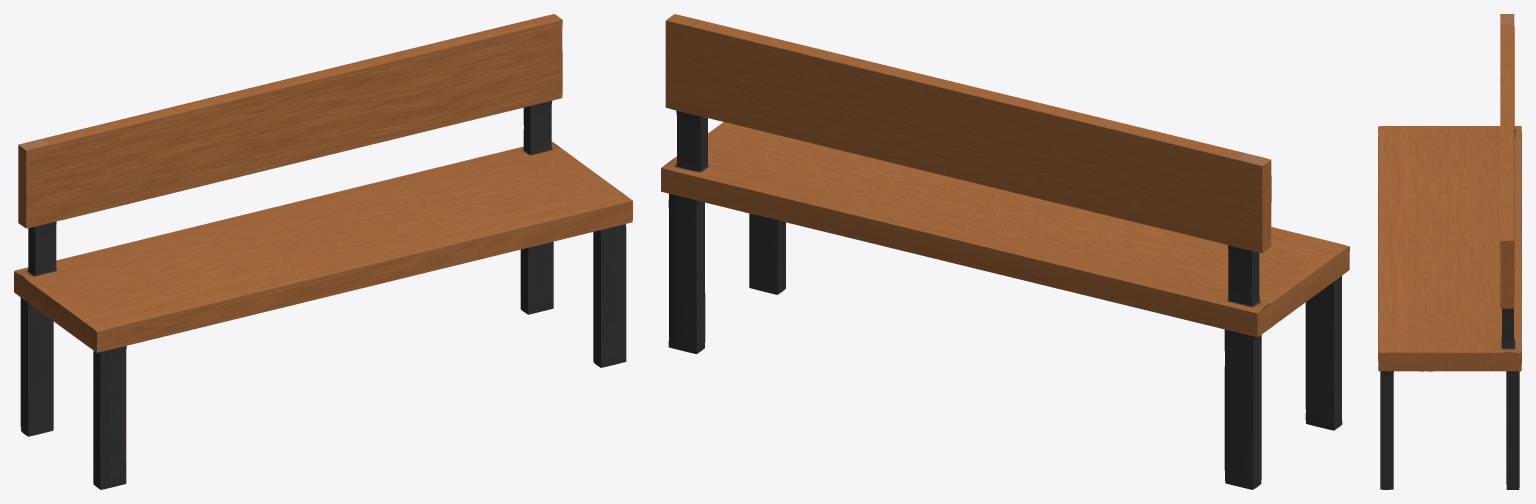
File: A09_Bench.fbx
3 views of the same model, side by side, from view 1: azimuth 30°, elevation 25°; view 2: azimuth 150°, elevation 25°; view 3: azimuth 270°, elevation 25° (orthographic). The views are drawn at different scales.
Visible parts, largest first — view 1: Bench; view 2: Bench; view 3: Bench.
Part boxes in pixels (x1,y1,x2,y2): Bench: (14, 14, 632, 489); Bench: (661, 14, 1349, 489); Bench: (1378, 14, 1521, 489).
Size of the model in its own units: 200 by 103 by 53.6.
1 material, 1 textured.
